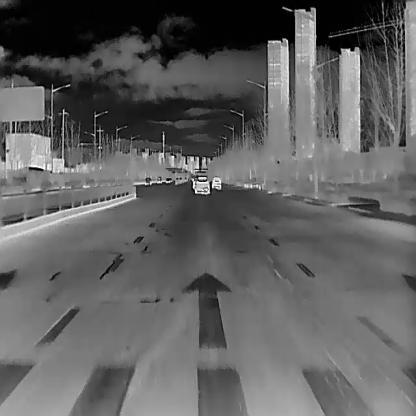car: (195, 175, 210, 194), (210, 175, 220, 189), (144, 177, 152, 185), (156, 175, 162, 183), (165, 176, 170, 182)
crosswalk: (1, 329, 416, 416)
